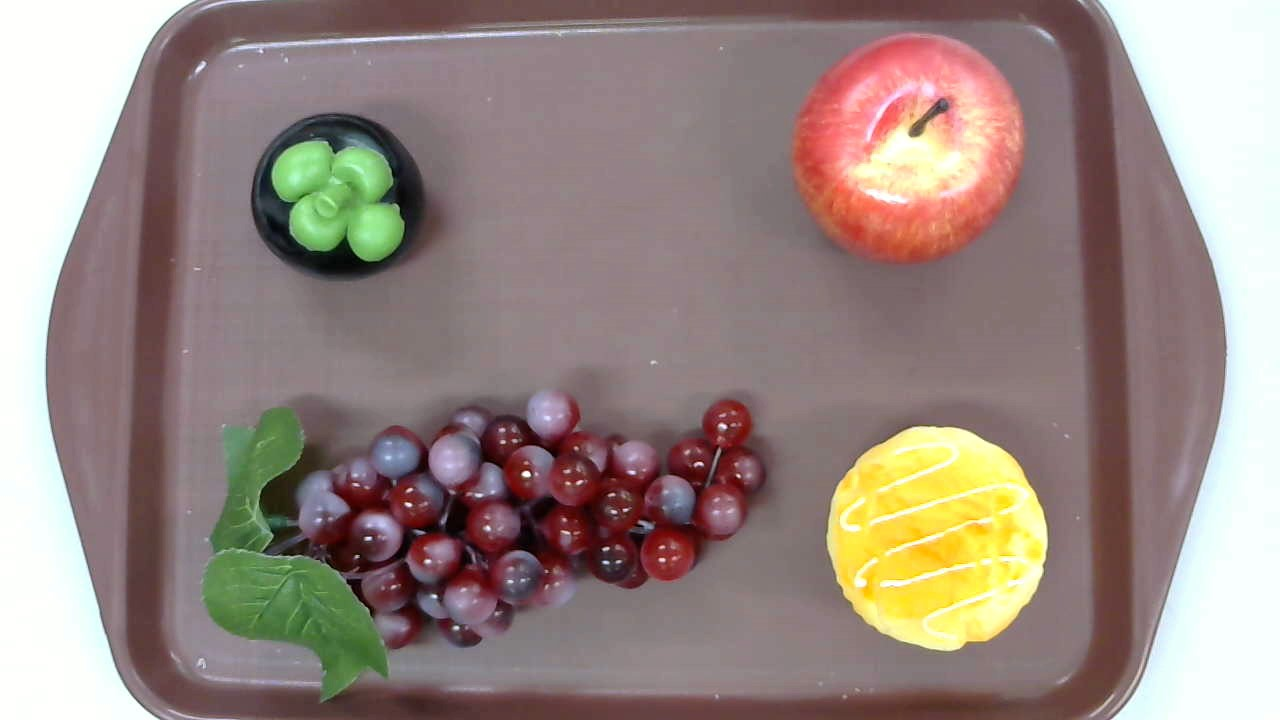cupcake: (825, 425, 1047, 650)
grape: (201, 389, 765, 703)
mangosteen: (250, 113, 425, 280)
red apple: (790, 32, 1027, 266)
